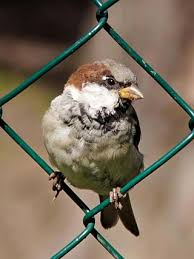hsparrow: (41, 54, 148, 246)
